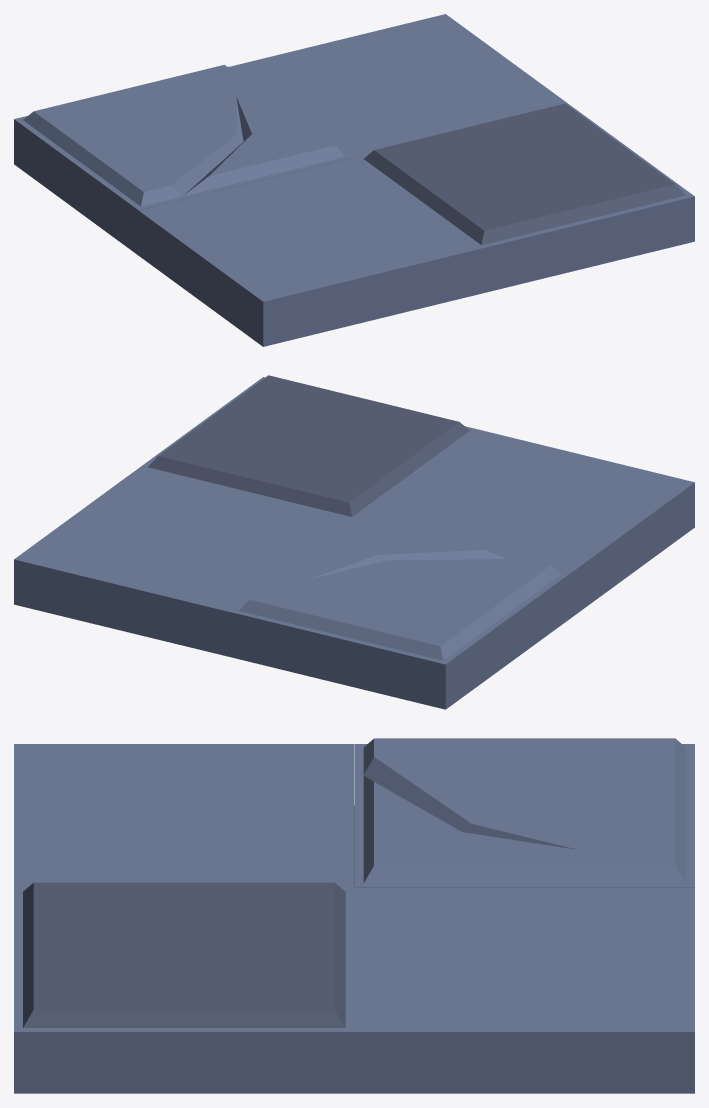
File: floor_003.glb
The picture shows the model from 3 angles, top to bottom: view 1: azimuth 30°, elevation 25°; view 2: azimuth 150°, elevation 25°; view 3: azimuth 270°, elevation 25°; orthographic projection. The views are drawn at different scales.
Parts seen in each view (by area): view 1: floor.003; view 2: floor.003; view 3: floor.003.
Part boxes in pixels (x1,y1,x2,y2): floor.003: (14,14,694,346); floor.003: (14,375,694,709); floor.003: (14,738,694,1093).
Bounding box in the file's own units: 2 × 0.2453 × 2.
